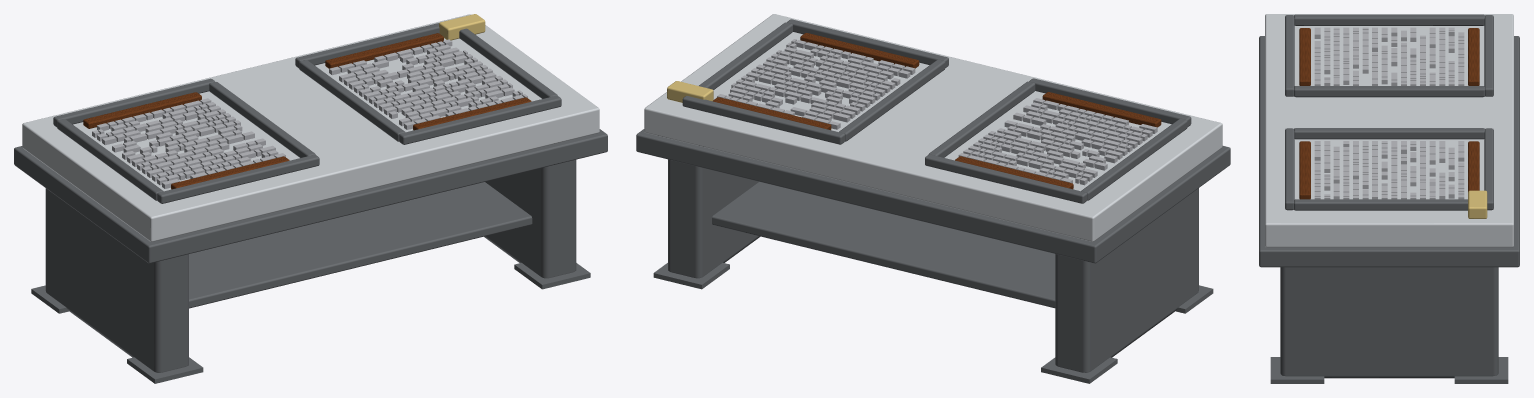
The model's file is printing-press-and-newspaper-office-imposing-stone-65c01c95__37735.glb.
3 views of the same model, side by side, from view 1: azimuth 30°, elevation 25°; view 2: azimuth 150°, elevation 25°; view 3: azimuth 270°, elevation 25° (orthographic). The views are drawn at different scales.
Visible parts, largest first — view 1: imposing-stone; view 2: imposing-stone; view 3: imposing-stone.
Boxes of the visible parts, x1=… form: imposing-stone: x1=14, y1=14, x2=607, y2=383; imposing-stone: x1=636, y1=14, x2=1230, y2=383; imposing-stone: x1=1259, y1=14, x2=1519, y2=383.
Size of the model in its own units: 2.66 by 1.01 by 1.36.
5 materials, 1 textured.
